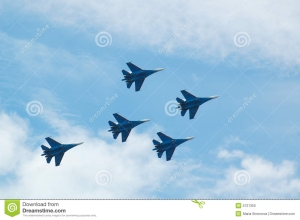flight: (176, 89, 219, 120), (40, 137, 84, 167), (151, 132, 196, 161), (122, 62, 164, 92), (108, 113, 150, 142)
